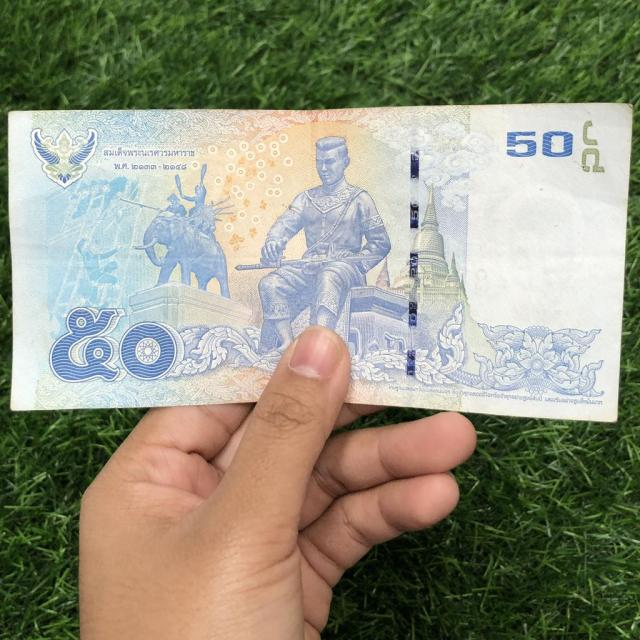THAI50: (6, 102, 634, 426)
